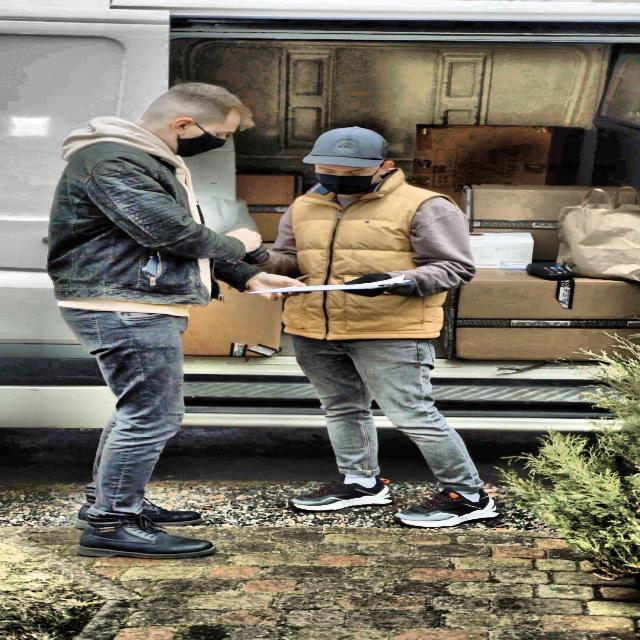gloved: (242, 270, 312, 304), (346, 270, 413, 298), (227, 226, 270, 250), (244, 247, 288, 266)
